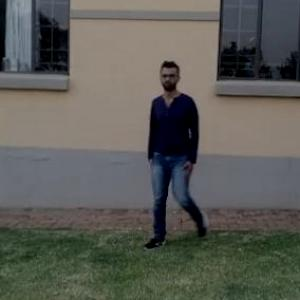follow: (147, 61, 201, 244)
